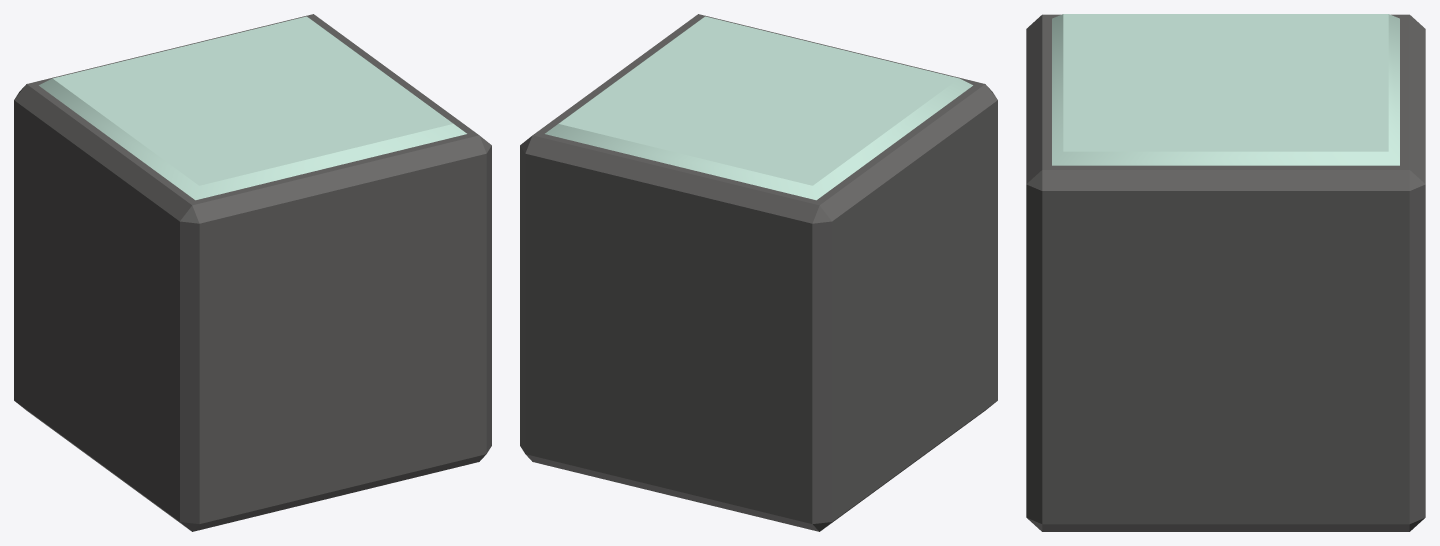
The model's file is winter-cube-large.glb.
3 renders of one model, left to right at view 1: azimuth 30°, elevation 25°; view 2: azimuth 150°, elevation 25°; view 3: azimuth 270°, elevation 25°, orthographic. The views are drawn at different scales.
Parts seen in each view (by area): view 1: WinterCubeLarge; view 2: WinterCubeLarge; view 3: WinterCubeLarge.
Part boxes in pixels (<box>): WinterCubeLarge: <box>14,14,491,531</box>; WinterCubeLarge: <box>520,14,997,531</box>; WinterCubeLarge: <box>1026,14,1425,531</box>.
Size of the model in its own units: 200 by 205 by 200.
Materials: 1 (1 with a texture image).
